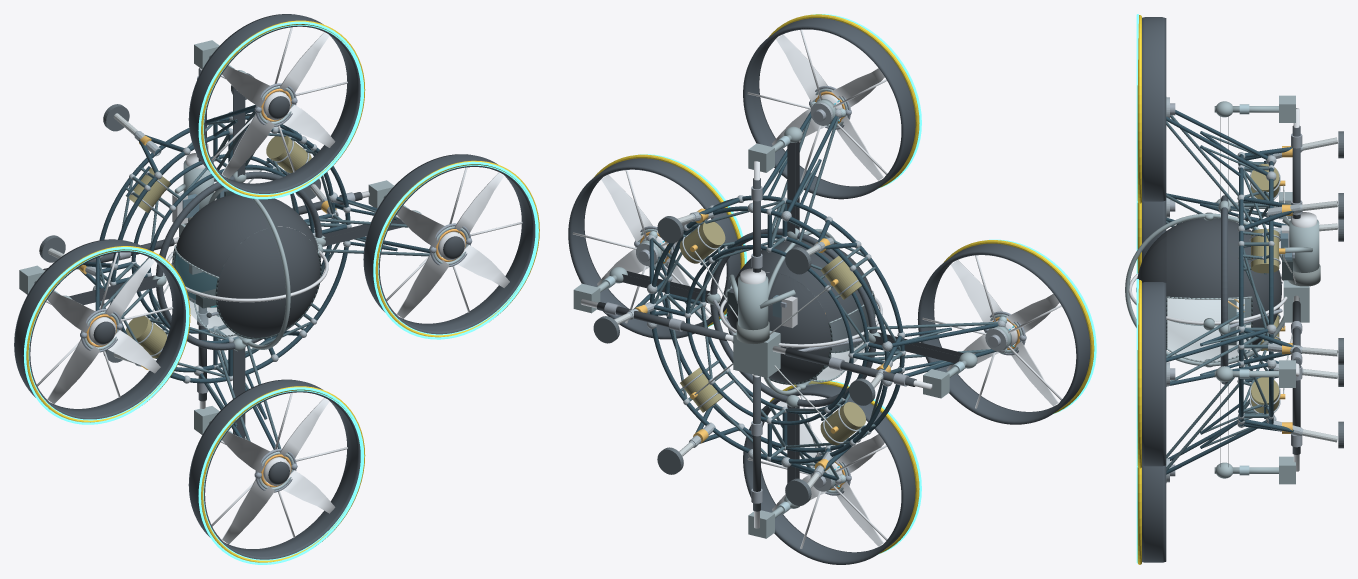
The model's file is airframe-r6-connected-r2.glb.
The picture shows the model from 3 angles, left to right: view 1: azimuth 30°, elevation 25°; view 2: azimuth 150°, elevation 25°; view 3: azimuth 270°, elevation 25°; orthographic projection.
Visible parts, largest first — view 1: P04 | CFRP upper spherical sandwich, P02 | F1 open annular duct, P02 | F4 open annular duct, P02 | F3 open annular duct, P02 | F2 open annular duct, P04 | Aft CFRP belt west, V4 P06 | UPPER outer compression ring, P06 | Carbon ring R=1.190m, P04 | Segmented laminated window 1, Phase2_Duct_Lip_Glow_F4, Phase2_Duct_Lip_Glow_F2, Phase2_Duct_Lip_Glow_F1 (+35 smaller); view 2: P02 | F3 open annular duct, P02 | F2 open annular duct, P02 | F1 open annular duct, P02 | F4 open annular duct, P04 | CFRP lower spherical sandwich, V4 P06 | LOWER outer load ring, V4 P06 | UPPER outer compression ring, P06 | Carbon ring R=1.190m, V4 P06 | LOWER inner pressure ring, P04 | Aft CFRP belt west, P03 | Four way reduction gearbox, P01 | M250 C30P class turboshaft schematic (+24 smaller); view 3: P04 | Aft CFRP belt east, P02 | F2 open annular duct, P02 | F1 open annular duct, P04 | Segmented laminated window 3, P02 | F4 open annular duct, P05 | Outer pitch ring YZ, P04 | Segmented laminated window 2, P01 | M250 C30P class turboshaft schematic, P04 | CFRP lower spherical sandwich, V4 P06 | UPPER outer compression ring, P04 | Segmented laminated window 1, P04 | CFRP upper spherical sandwich (+33 smaller).
Boxes of the visible parts, box(x1,y1,x2,y2) form: P04 | CFRP upper spherical sandwich: box(217, 227, 319, 337); P02 | F1 open annular duct: box(363, 154, 535, 334); P02 | F4 open annular duct: box(188, 379, 360, 559); P02 | F3 open annular duct: box(14, 239, 185, 419); P02 | F2 open annular duct: box(188, 14, 360, 193); P04 | Aft CFRP belt west: box(176, 194, 267, 276); V4 P06 | UPPER outer compression ring: box(111, 128, 350, 383); P06 | Carbon ring R=1.190m: box(156, 171, 322, 350); P04 | Segmented laminated window 1: box(173, 251, 234, 334); Phase2_Duct_Lip_Glow_F4: box(198, 387, 364, 564); Phase2_Duct_Lip_Glow_F2: box(198, 21, 364, 199); Phase2_Duct_Lip_Glow_F1: box(373, 161, 538, 339); P02 | F3 open annular duct: box(917, 243, 1090, 424); P02 | F2 open annular duct: box(743, 18, 915, 199); P02 | F1 open annular duct: box(568, 158, 740, 339); P02 | F4 open annular duct: box(743, 384, 915, 564); P04 | CFRP lower spherical sandwich: box(728, 272, 830, 383); V4 P06 | LOWER outer load ring: box(650, 206, 889, 463); V4 P06 | UPPER outer compression ring: box(665, 195, 904, 452); P06 | Carbon ring R=1.190m: box(710, 228, 876, 407); V4 P06 | LOWER inner pressure ring: box(686, 245, 853, 425); P04 | Aft CFRP belt west: box(780, 242, 871, 322); P03 | Four way reduction gearbox: box(733, 330, 780, 377); P01 | M250 C30P class turboshaft schematic: box(738, 276, 768, 330); P04 | Aft CFRP belt east: box(1166, 224, 1251, 297); P02 | F2 open annular duct: box(1142, 17, 1166, 201); P02 | F1 open annular duct: box(1142, 282, 1166, 466); P04 | Segmented laminated window 3: box(1167, 298, 1250, 360); P02 | F4 open annular duct: box(1142, 465, 1166, 562); P05 | Outer pitch ring YZ: box(1125, 213, 1284, 366); P04 | Segmented laminated window 2: box(1168, 321, 1250, 360); P01 | M250 C30P class turboshaft schematic: box(1289, 219, 1319, 272); P04 | CFRP lower spherical sandwich: box(1251, 231, 1281, 344); V4 P06 | UPPER outer compression ring: box(1239, 154, 1243, 426); P04 | Segmented laminated window 1: box(1168, 298, 1238, 320); P04 | CFRP upper spherical sandwich: box(1136, 231, 1166, 295).
Size of the model in its own units: 7.69 by 7.67 by 2.86.
